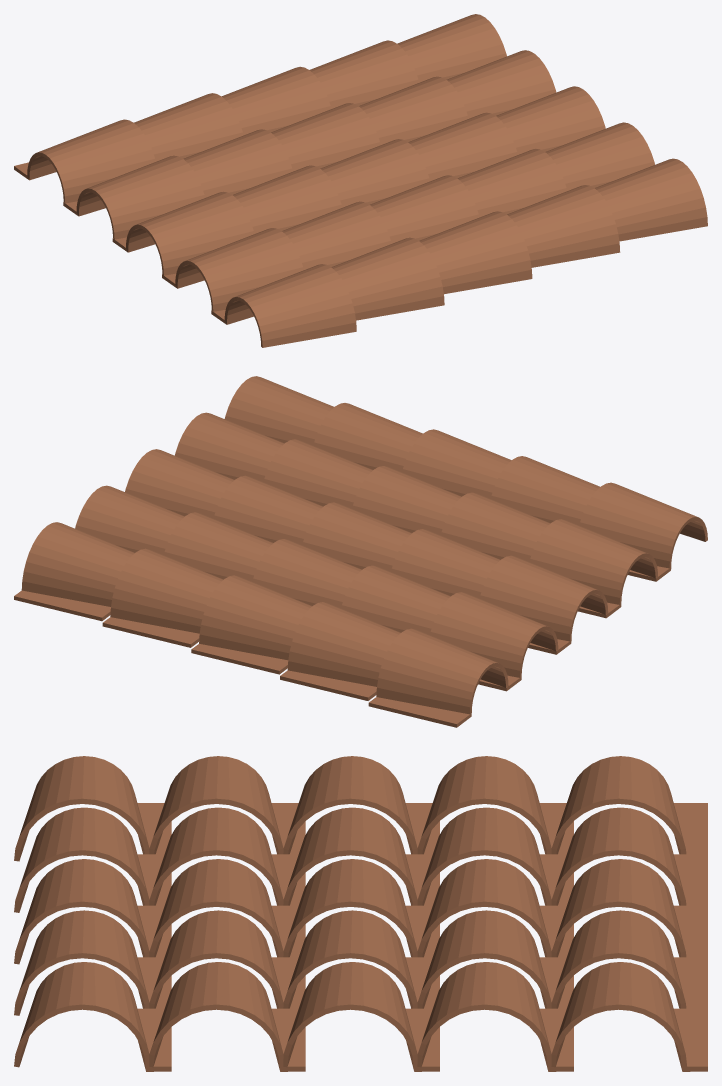
Rendered from Roof.fbx.
3 views of the same model, one above another, from view 1: azimuth 30°, elevation 25°; view 2: azimuth 150°, elevation 25°; view 3: azimuth 270°, elevation 25° (orthographic). The views are drawn at different scales.
Visible parts, largest first — view 1: Roof; view 2: Roof; view 3: Roof.
Part boxes in pixels (x1,y1,x2,y2): Roof: [14, 14, 707, 347]; Roof: [14, 376, 707, 727]; Roof: [14, 756, 707, 1071].
Bounding box in the file's own units: 1005 × 152 × 1014.
